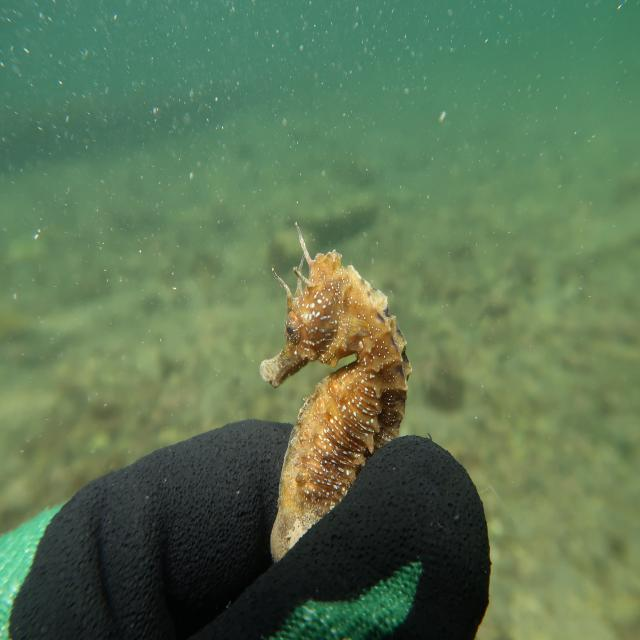Guttu: (253, 242, 370, 394)
